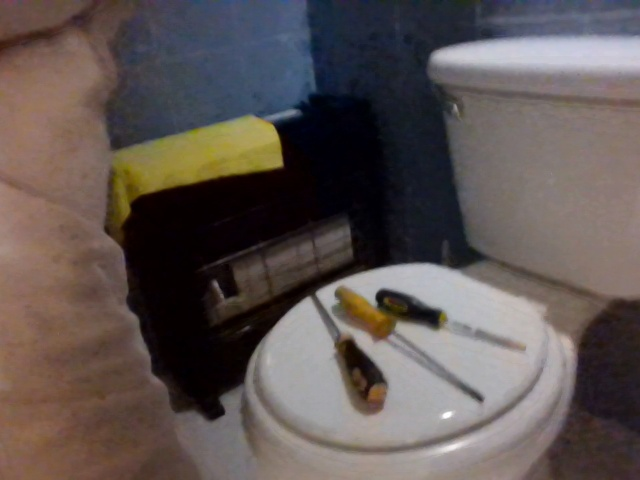destornillador: (330, 284, 485, 404), (305, 282, 391, 416), (374, 288, 529, 352)
